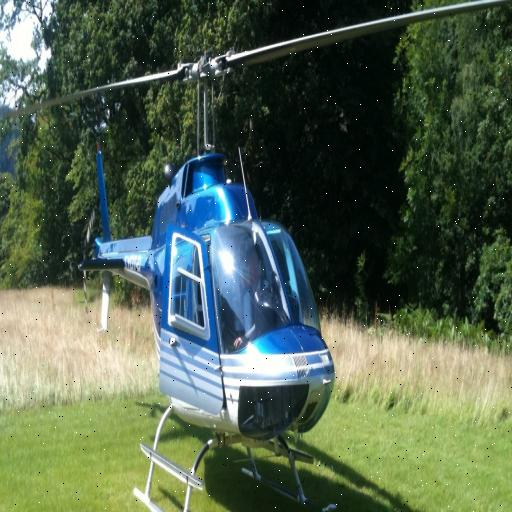helicopter: (42, 5, 479, 512)
